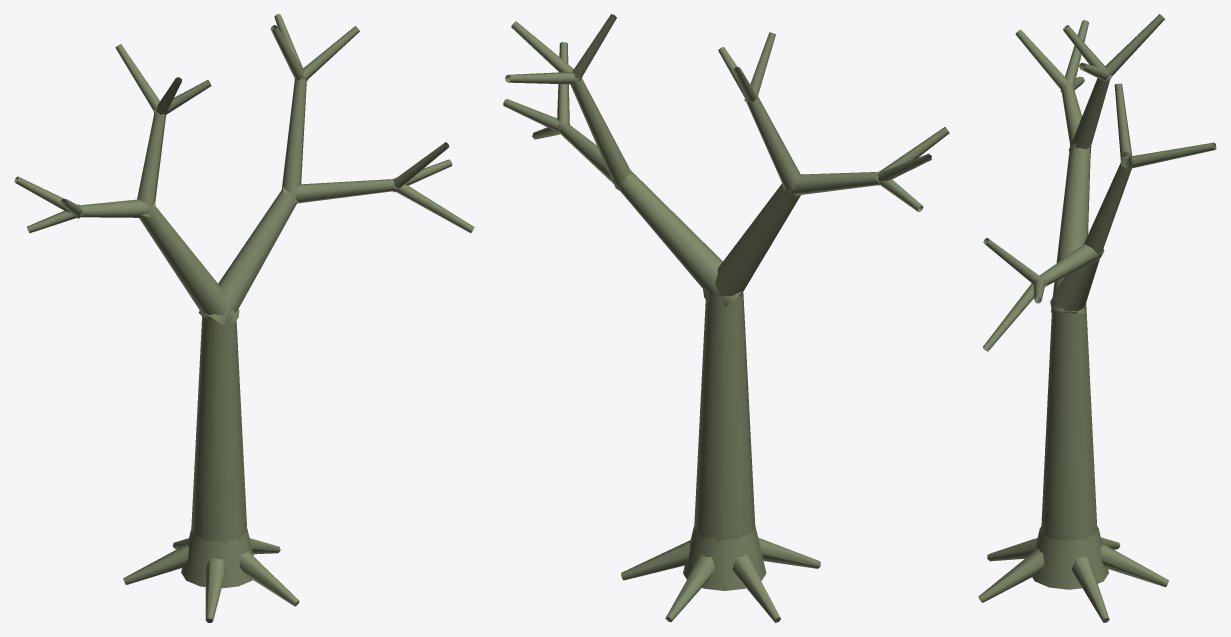
File: dead_tree.glb
3 renders of one model, left to right at view 1: azimuth 30°, elevation 25°; view 2: azimuth 150°, elevation 25°; view 3: azimuth 270°, elevation 25°, orthographic. The views are drawn at different scales.
Visible parts, largest first — view 1: dead_tree; view 2: dead_tree; view 3: dead_tree.
Boxes of the visible parts, <box> form: dead_tree: <box>14,14,474,622</box>; dead_tree: <box>503,14,949,622</box>; dead_tree: <box>978,14,1216,622</box>.
Bounding box in the file's own units: 5.05 × 6.08 × 2.42.
